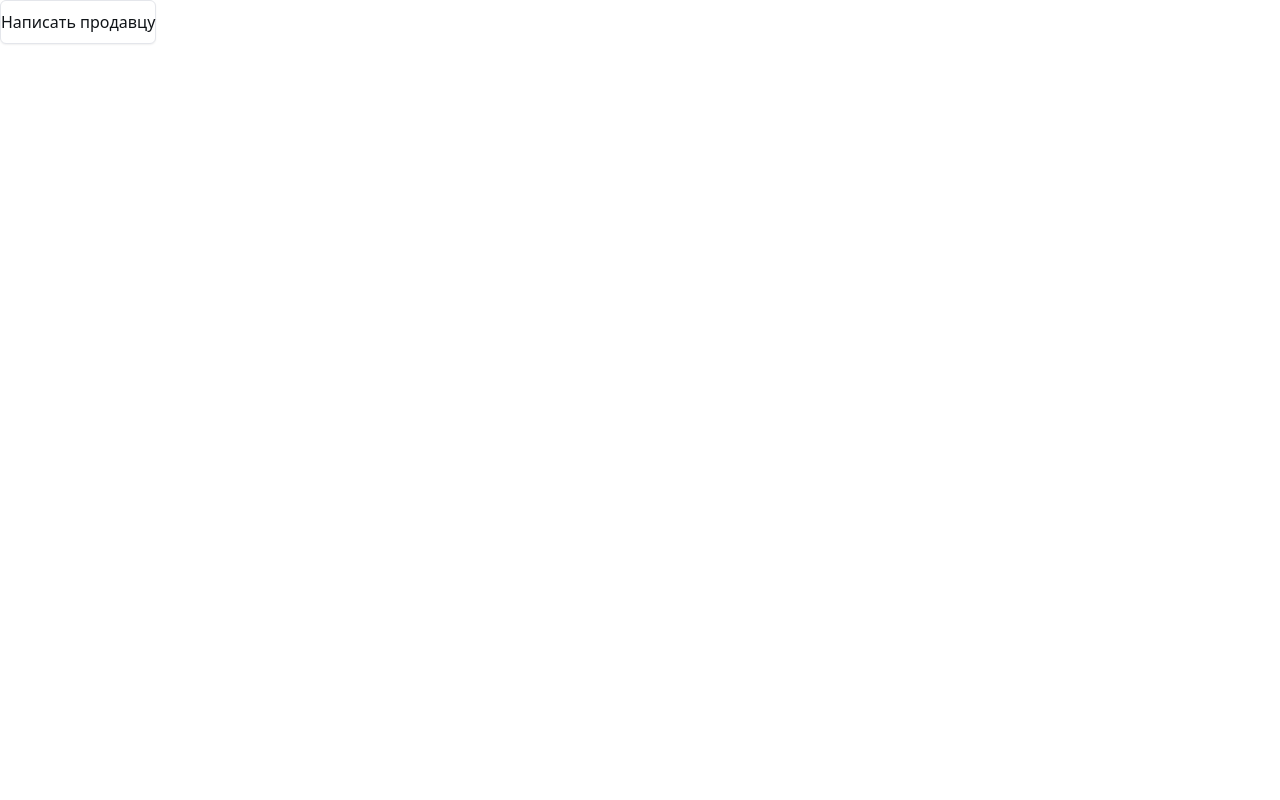
Test: ContactSellerButton › покупателю с заказом открывает диалог по заказу
What coordinates should you click on to do the following:
click the button "Написать продавцу"
I would click on:
 (78, 22)
Its box is x1=0 y1=0 x2=156 y2=44.
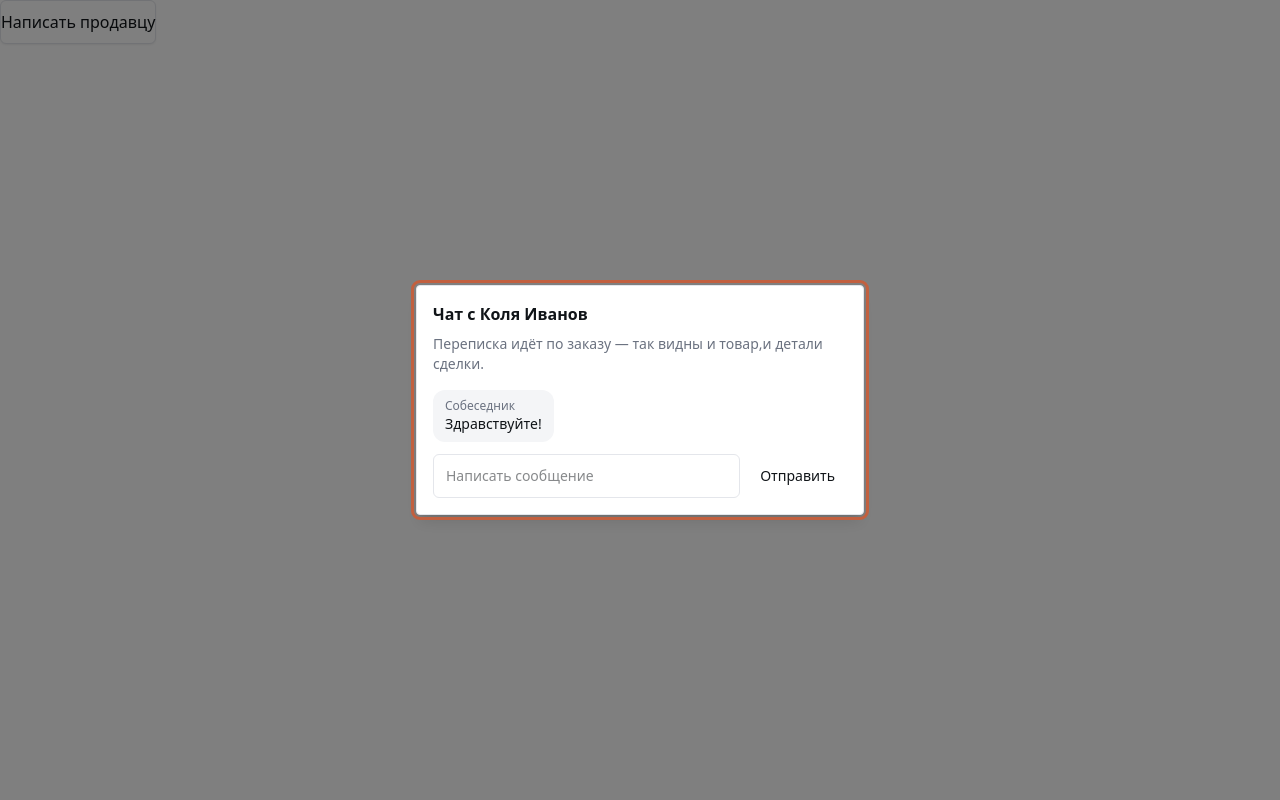
Expected: the heading "Чат с Коля Иванов" is shown, x1=433 y1=303 x2=588 y2=325
Expected: the list item "Собеседник Здравствуйте!" is shown, x1=433 y1=390 x2=554 y2=442
